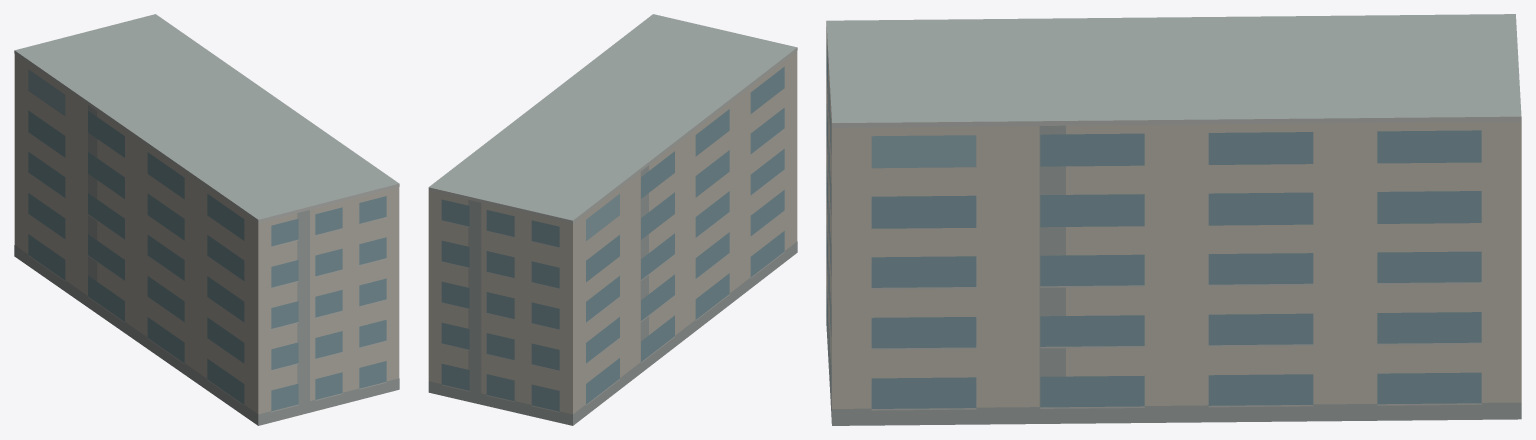
The model's file is residential-7d72d0da-e32a-4971-b5e2-58df350394db.glb.
The picture shows the model from 3 angles, left to right: view 1: azimuth 30°, elevation 25°; view 2: azimuth 150°, elevation 25°; view 3: azimuth 270°, elevation 25°; orthographic projection. The views are drawn at different scales.
Parts seen in each view (by area): view 1: residential-7d72d0da-e32a-4971-b5e2-58df350394db.tmp; view 2: residential-7d72d0da-e32a-4971-b5e2-58df350394db.tmp; view 3: residential-7d72d0da-e32a-4971-b5e2-58df350394db.tmp.
Boxes of the visible parts, left/top/right/bottom form: residential-7d72d0da-e32a-4971-b5e2-58df350394db.tmp: left=14, top=14, right=399, bottom=425; residential-7d72d0da-e32a-4971-b5e2-58df350394db.tmp: left=428, top=14, right=797, bottom=425; residential-7d72d0da-e32a-4971-b5e2-58df350394db.tmp: left=826, top=14, right=1521, bottom=425.
Bounding box in the file's own units: 11.8 × 15.25 × 31.74.
